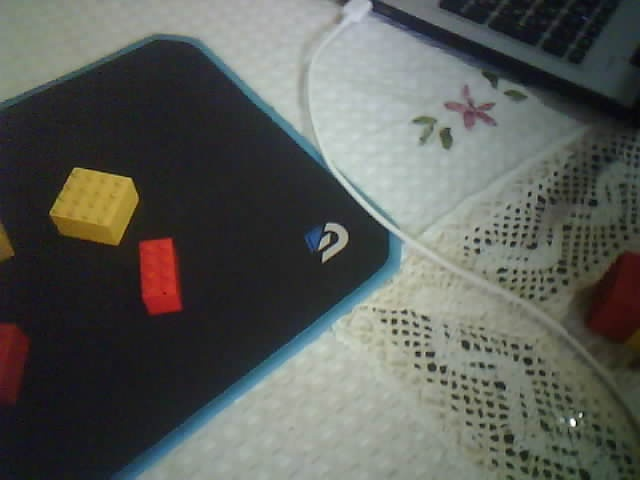lego: (49, 166, 140, 247), (584, 249, 640, 346), (138, 236, 183, 318), (1, 322, 31, 406)
